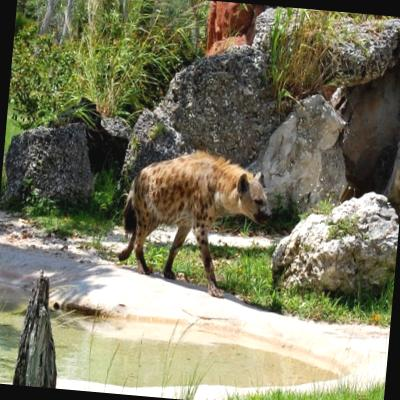hyenas: (93, 110, 291, 302)
